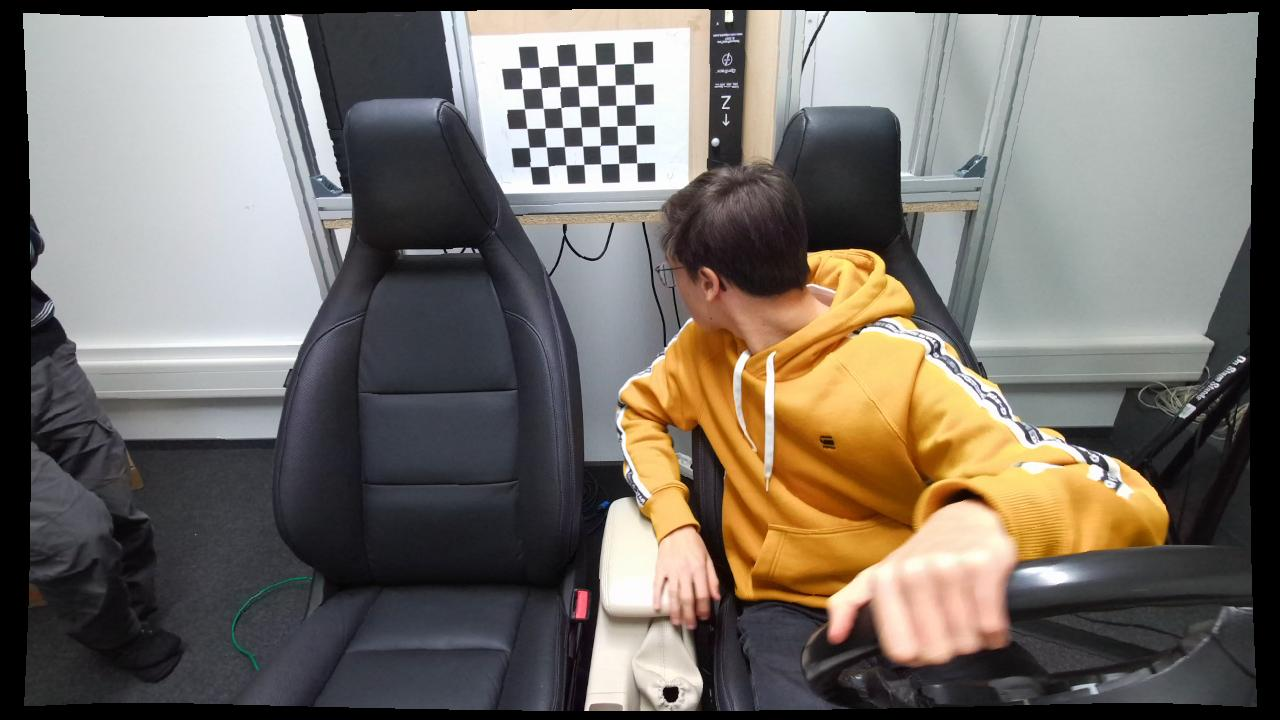Distracted: (609, 161, 1071, 710)
